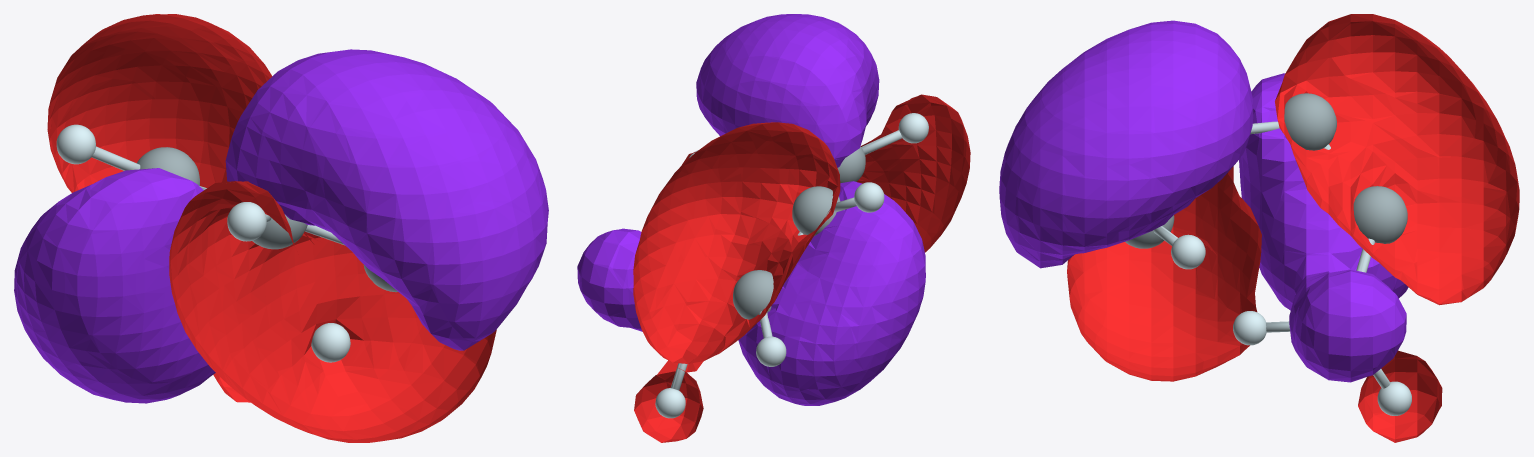
3 views of the same model, side by side, from view 1: azimuth 30°, elevation 25°; view 2: azimuth 150°, elevation 25°; view 3: azimuth 270°, elevation 25° (orthographic). The views are drawn at different scales.
Visible parts, largest first — view 1: Renderer Node; view 2: Renderer Node; view 3: Renderer Node.
Part boxes in pixels (x1,y1,x2,y2): Renderer Node: (14, 14, 548, 442); Renderer Node: (577, 14, 970, 442); Renderer Node: (999, 14, 1519, 442).
Size of the model in its own units: 4.77 by 4.97 by 5.99.
